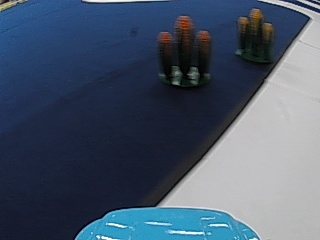corn: (157, 16, 213, 89), (235, 5, 276, 63)
